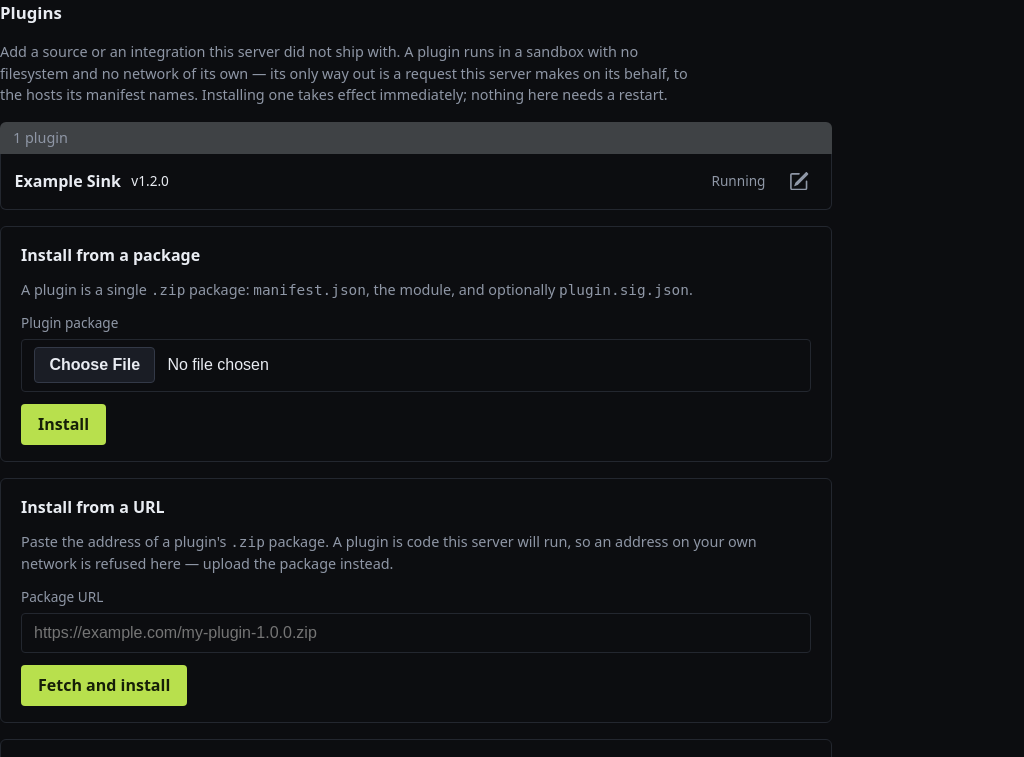
Test: the Plugins screen › names what an installed plugin provides, and where it came from
The width and height of the screenshot is (1024, 757).
Expected: the list item with test id "plugin-example-sink" is shown, [1,154,831,209]
Expected: the text with test id "plugin-version-example-sink" shows "1.2.0", [138,171,169,190]
Click the button with test id "plugin-edit-example-sink".
click(799, 181)  # box [781,163,817,199]
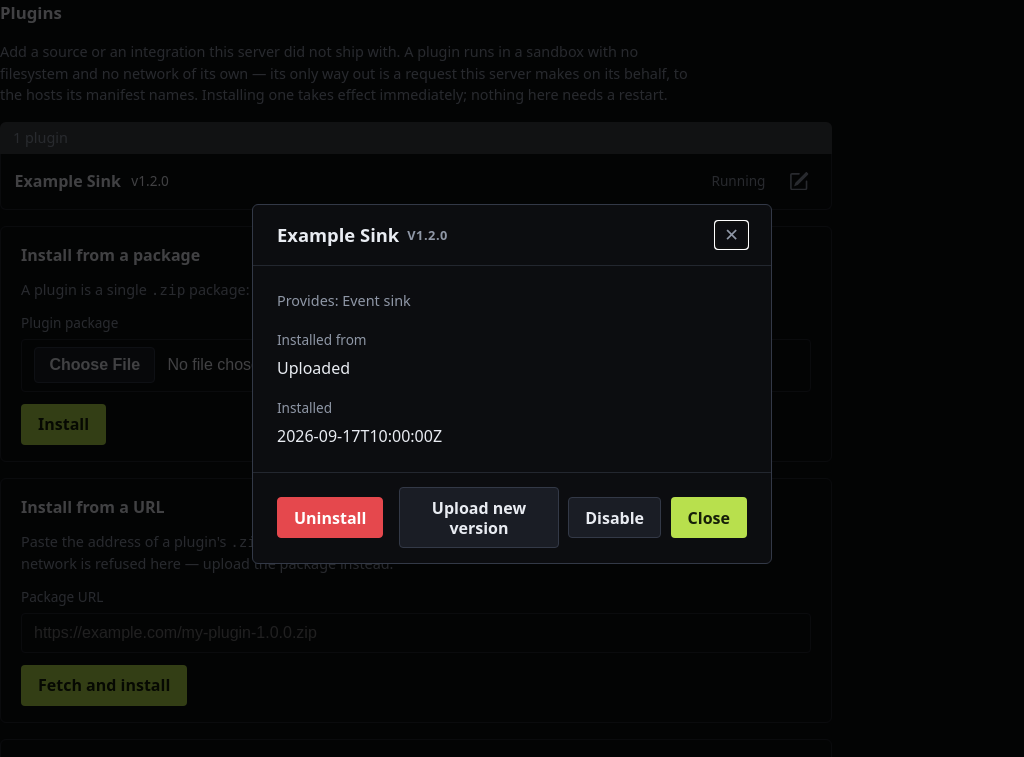
Now the text with test id "plugin-provides-example-sink" shows "Event sink", box [342,291,411,310]
Now the text with test id "plugin-source-example-sink" reads "Uploaded", box [277,357,350,379]
